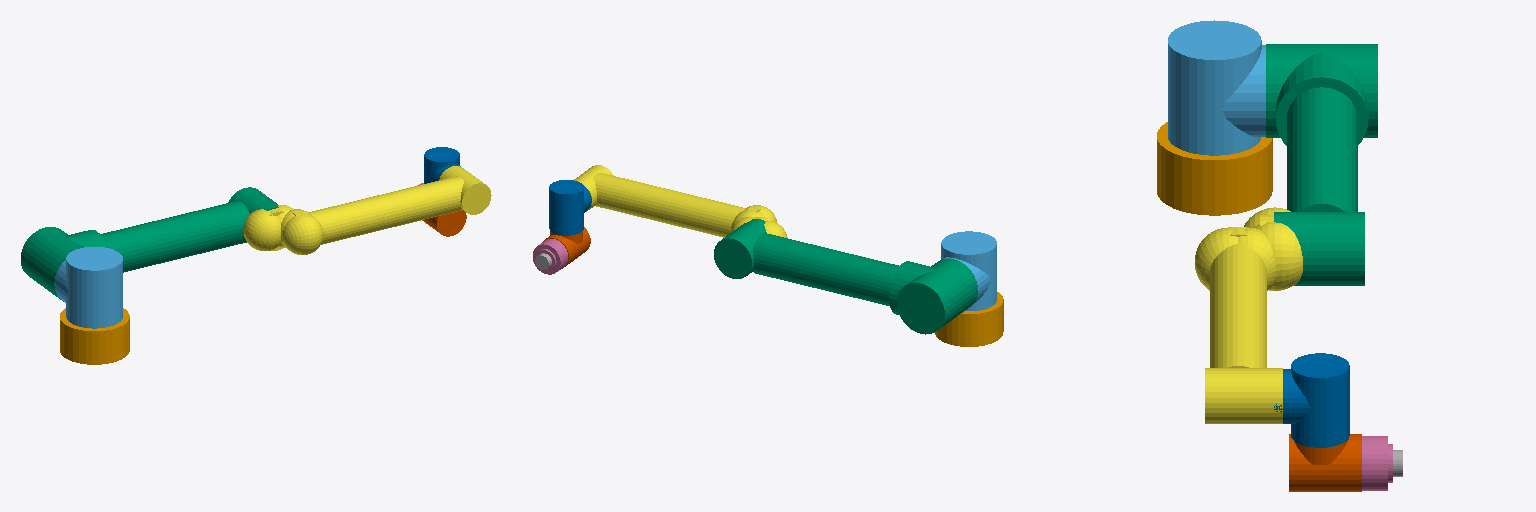
URDF robot description (UR10e):
<?xml version="1.0"?>
<robot name="UR10e" xmlns:xacro="http://ros.org/wiki/xacro">
  <link name="base_link">
    <visual>
      <origin xyz="0 0 0.05" rpy="-3.141592 0 0"/>
      <geometry>
        <cylinder radius="0.095" length="0.1"/>
      </geometry>
    </visual>
    <collision>
      <origin xyz="0 0 0.05" rpy="-3.141592 0 0"/>
      <geometry>
        <cylinder radius="0.095" length="0.1"/>
      </geometry>
    </collision>
  </link>
  <joint name="shoulder_pan_joint" type="revolute">
    <parent link="base_link"/>
    <child link="shoulder_link"/>
    <axis xyz="0 0 1"/>
    <limit effort="330" lower="-6.28319" upper="6.28319" velocity="3.14"/>
    <origin xyz="0 0 0.181" rpy="0 0 0"/>
  </joint>
  <link name="shoulder_link">
    <visual>
      <origin xyz="0 0 0" rpy="-3.141592 0 0"/>
      <geometry>
        <cylinder radius="0.077" length="0.183"/>
      </geometry>
    </visual>
    <collision>
      <origin xyz="0 0 0" rpy="-3.141592 0 0"/>
      <geometry>
        <cylinder radius="0.077" length="0.183"/>
      </geometry>
    </collision>
    <visual>
      <origin xyz="0 0.05 0" rpy="1.570797 0 0"/>
      <geometry>
        <cylinder radius="0.076" length="0.093"/>
      </geometry>
    </visual>
    <collision>
      <origin xyz="0 0.05 0" rpy="1.570797 0 0"/>
      <geometry>
        <cylinder radius="0.076" length="0.093"/>
      </geometry>
    </collision>
  </link>
  <joint name="shoulder_lift_joint" type="revolute">
    <parent link="shoulder_link"/>
    <child link="upper_arm_link"/>
    <axis xyz="0 1 0"/>
    <limit effort="330" lower="-6.28319" upper="6.28319" velocity="3.14"/>
    <origin xyz="0 0.176 0" rpy="0 1.570796 0"/>
  </joint>
  <link name="upper_arm_link">
    <visual>
      <origin xyz="0 0 0.33" rpy="-3.141592 0 0"/>
      <geometry>
        <cylinder radius="0.058" length="0.463"/>
      </geometry>
    </visual>
    <collision>
      <origin xyz="0 0 0.33" rpy="-3.141592 0 0"/>
      <geometry>
        <cylinder radius="0.058" length="0.463"/>
      </geometry>
    </collision>
    <visual>
      <origin xyz="0 0 0.06" rpy="-3.141592 0 0"/>
      <geometry>
        <cylinder radius="0.076" length="0.1"/>
      </geometry>
    </visual>
    <collision>
      <origin xyz="0 0 0.06" rpy="-3.141592 0 0"/>
      <geometry>
        <cylinder radius="0.076" length="0.1"/>
      </geometry>
    </collision>
    <visual>
      <origin xyz="0 0 0" rpy="-1.570796 0 0"/>
      <geometry>
        <cylinder radius="0.077" length="0.183"/>
      </geometry>
    </visual>
    <collision>
      <origin xyz="0 0 0" rpy="-1.570796 0 0"/>
      <geometry>
        <cylinder radius="0.077" length="0.183"/>
      </geometry>
    </collision>
    <visual>
      <origin xyz="0 -0.005 0.612" rpy="-1.570796 0 0"/>
      <geometry>
        <cylinder radius="0.061" length="0.149"/>
      </geometry>
    </visual>
    <collision>
      <origin xyz="0 -0.005 0.612" rpy="-1.570796 0 0"/>
      <geometry>
        <cylinder radius="0.061" length="0.149"/>
      </geometry>
    </collision>
  </link>
  <joint name="elbow_joint" type="revolute">
    <parent link="upper_arm_link"/>
    <child link="forearm_link"/>
    <axis xyz="0 1 0"/>
    <limit effort="150" lower="-3.14159" upper="3.14159" velocity="3.14"/>
    <origin xyz="0 -0.137 0.613" rpy="0 0 0"/>
  </joint>
  <link name="forearm_link">
    <visual>
      <origin xyz="0 0 0.307" rpy="-3.141592 0 0"/>
      <geometry>
        <cylinder radius="0.047" length="0.49"/>
      </geometry>
    </visual>
    <collision>
      <origin xyz="0 0 0.307" rpy="-3.141592 0 0"/>
      <geometry>
        <cylinder radius="0.047" length="0.49"/>
      </geometry>
    </collision>
    <visual>
      <origin xyz="0 0.009 0.57" rpy="-1.570796 0 0"/>
      <geometry>
        <cylinder radius="0.046" length="0.129"/>
      </geometry>
    </visual>
    <collision>
      <origin xyz="0 0.009 0.57" rpy="-1.570796 0 0"/>
      <geometry>
        <cylinder radius="0.046" length="0.129"/>
      </geometry>
    </collision>
    <visual>
      <origin xyz="0 0.06 0" rpy="-1.570796 0 0"/>
      <geometry>
        <cylinder radius="0.058" length="0.05"/>
      </geometry>
    </visual>
    <collision>
      <origin xyz="0 0.06 0" rpy="-1.570796 0 0"/>
      <geometry>
        <cylinder radius="0.058" length="0.05"/>
      </geometry>
    </collision>
    <visual>
      <origin xyz="0 0.06 -0.025" rpy="-1.570796 0 0"/>
      <geometry>
        <sphere radius="0.058"/>
      </geometry>
    </visual>
    <collision>
      <origin xyz="0 0.06 -0.025" rpy="-1.570796 0 0"/>
      <geometry>
        <sphere radius="0.058"/>
      </geometry>
    </collision>
    <visual>
      <origin xyz="0 0.06 0.025" rpy="-1.570796 0 0"/>
      <geometry>
        <sphere radius="0.058"/>
      </geometry>
    </visual>
    <collision>
      <origin xyz="0 0.06 0.025" rpy="-1.570796 0 0"/>
      <geometry>
        <sphere radius="0.058"/>
      </geometry>
    </collision>
    <visual>
      <origin xyz="0 0 0.05" rpy="0 0 0"/>
      <geometry>
        <cylinder radius="0.057" length="0.03"/>
      </geometry>
    </visual>
    <collision>
      <origin xyz="0 0 0.05" rpy="0 0 0"/>
      <geometry>
        <cylinder radius="0.057" length="0.03"/>
      </geometry>
    </collision>
    <visual>
      <origin xyz="0 0.015 0.05" rpy="0 0 0"/>
      <geometry>
        <sphere radius="0.057"/>
      </geometry>
    </visual>
    <collision>
      <origin xyz="0 0.015 0.05" rpy="0 0 0"/>
      <geometry>
        <sphere radius="0.057"/>
      </geometry>
    </collision>
    <visual>
      <origin xyz="0 -0.015 0.05" rpy="0 0 0"/>
      <geometry>
        <sphere radius="0.057"/>
      </geometry>
    </visual>
    <collision>
      <origin xyz="0 -0.015 0.05" rpy="0 0 0"/>
      <geometry>
        <sphere radius="0.057"/>
      </geometry>
    </collision>
  </link>
  <joint name="wrist_1_joint" type="revolute">
    <parent link="forearm_link"/>
    <child link="wrist_1_link"/>
    <axis xyz="0 1 0"/>
    <limit effort="54" lower="-6.28319" upper="6.28319" velocity="6.28"/>
    <origin xyz="0 0 0.571" rpy="0 1.570796 0"/>
  </joint>
  <link name="wrist_1_link">
    <visual>
      <origin xyz="0 0.095 0" rpy="-1.570796 0 0"/>
      <geometry>
        <cylinder radius="0.045" length="0.075"/>
      </geometry>
    </visual>
    <collision>
      <origin xyz="0 0.095 0" rpy="-1.570796 0 0"/>
      <geometry>
        <cylinder radius="0.045" length="0.075"/>
      </geometry>
    </collision>
    <visual>
      <origin xyz="0 0.134 0.007" rpy="-3.141592 0 0"/>
      <geometry>
        <cylinder radius="0.048" length="0.126"/>
      </geometry>
    </visual>
    <collision>
      <origin xyz="0 0.134 0.007" rpy="-3.141592 0 0"/>
      <geometry>
        <cylinder radius="0.048" length="0.126"/>
      </geometry>
    </collision>
  </link>
  <joint name="wrist_2_joint" type="revolute">
    <parent link="wrist_1_link"/>
    <child link="wrist_2_link"/>
    <axis xyz="0 0 1"/>
    <limit effort="54" lower="-6.28319" upper="6.28319" velocity="6.28"/>
    <origin xyz="0 0.135 0" rpy="0 0 0"/>
  </joint>
  <link name="wrist_2_link">
    <visual>
      <origin xyz="0 0.007 0.1195" rpy="-1.570796 0 0"/>
      <geometry>
        <cylinder radius="0.047" length="0.12"/>
      </geometry>
    </visual>
    <collision>
      <origin xyz="0 0.007 0.1195" rpy="-1.570796 0 0"/>
      <geometry>
        <cylinder radius="0.047" length="0.12"/>
      </geometry>
    </collision>
    <visual>
      <origin xyz="0 0 0.0805" rpy="-3.141592 0 0"/>
      <geometry>
        <cylinder radius="0.046" length="0.043"/>
      </geometry>
    </visual>
    <collision>
      <origin xyz="0 0 0.0805" rpy="-3.141592 0 0"/>
      <geometry>
        <cylinder radius="0.046" length="0.043"/>
      </geometry>
    </collision>
  </link>
  <joint name="wrist_3_joint" type="revolute">
    <parent link="wrist_2_link"/>
    <child link="wrist_3_link"/>
    <axis xyz="0 1 0"/>
    <limit effort="54" lower="-6.28319" upper="6.28319" velocity="6.28"/>
    <origin xyz="0 0 0.12" rpy="0 0 0"/>
  </joint>
  <link name="wrist_3_link">
    <visual>
      <origin xyz="0 0.086 0" rpy="-1.570796 0 0"/>
      <geometry>
        <cylinder radius="0.045" length="0.048"/>
      </geometry>
    </visual>
    <collision>
      <origin xyz="0 0.086 0" rpy="-1.570796 0 0"/>
      <geometry>
        <cylinder radius="0.045" length="0.048"/>
      </geometry>
    </collision>
    <visual>
      <origin xyz="0 0.109 0" rpy="-1.570796 0 0"/>
      <geometry>
        <cylinder radius="0.032" length="0.018"/>
      </geometry>
    </visual>
    <collision>
      <origin xyz="0 0.109 0" rpy="-1.570796 0 0"/>
      <geometry>
        <cylinder radius="0.032" length="0.018"/>
      </geometry>
    </collision>
  </link>
  <link name="vacuum gripper">
    <visual>
      <origin xyz="0 0.01 0" rpy="1.5708 0 0"/>
      <geometry>
        <cylinder radius="0.022" length="0.03"/>
      </geometry>
    </visual>
    <collision>
      <origin xyz="0 0.01 0" rpy="1.5708 0 0"/>
      <geometry>
        <cylinder radius="0.022" length="0.03"/>
      </geometry>
    </collision>
  </link>
  <joint name="wrist_3_link_vacuum gripper_joint" type="fixed">
    <parent link="wrist_3_link"/>
    <child link="vacuum gripper"/>
    <origin xyz="0 0.11 0" rpy="0 0 0"/>
  </joint>
</robot>

--- Render facts (derived) ---
The picture shows the robot from 3 angles, left to right: view 1: azimuth 30°, elevation 25°; view 2: azimuth 150°, elevation 25°; view 3: azimuth 270°, elevation 25°; orthographic projection.
Robot: UR10e — 8 links, 7 joints (6 revolute, 1 fixed); root link base_link; default pose: every joint at zero.
Links seen in each view (by area): view 1: forearm_link, upper_arm_link, shoulder_link, base_link, wrist_1_link, wrist_2_link; view 2: upper_arm_link, forearm_link, shoulder_link, base_link, wrist_1_link, wrist_3_link, wrist_2_link; view 3: upper_arm_link, forearm_link, shoulder_link, base_link, wrist_1_link, wrist_2_link, wrist_3_link.
Link boxes in pixels (x1,y1,x2,y2): forearm_link: [244, 166, 491, 254]; upper_arm_link: [21, 187, 278, 301]; shoulder_link: [55, 247, 122, 328]; base_link: [60, 308, 129, 364]; wrist_1_link: [424, 147, 460, 183]; wrist_2_link: [422, 210, 466, 236]; upper_arm_link: [714, 219, 977, 334]; forearm_link: [574, 165, 787, 237]; shoulder_link: [941, 231, 996, 310]; base_link: [935, 292, 1003, 346]; wrist_1_link: [549, 180, 591, 235]; wrist_3_link: [533, 239, 567, 274]; wrist_2_link: [543, 227, 590, 268]; upper_arm_link: [1266, 44, 1377, 285]; forearm_link: [1195, 207, 1302, 423]; shoulder_link: [1168, 20, 1265, 155]; base_link: [1157, 122, 1272, 215]; wrist_1_link: [1274, 353, 1349, 447]; wrist_2_link: [1289, 434, 1361, 491]; wrist_3_link: [1362, 436, 1392, 490].
Size in the robot's own frame: 1.33 by 0.404 by 0.2725 metres.
Geometry: primitives only (box / cylinder / sphere), no mesh files.
